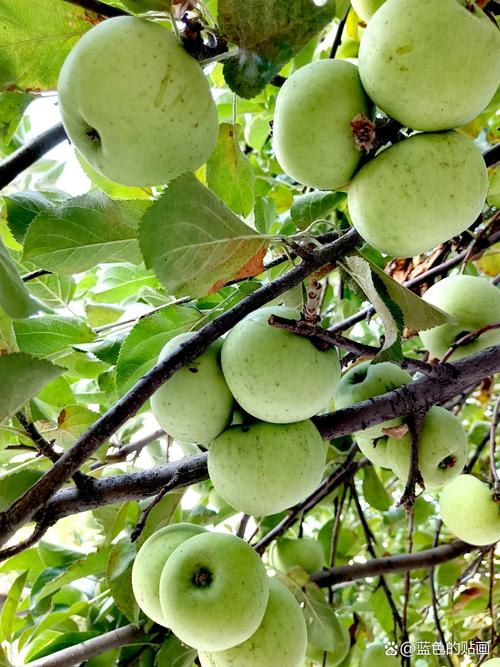unripe: (37, 12, 223, 185), (351, 0, 500, 134), (347, 128, 490, 259), (153, 529, 277, 655), (218, 308, 347, 425), (201, 408, 333, 521), (267, 58, 373, 192), (138, 330, 233, 453), (410, 271, 500, 374), (386, 410, 480, 488), (333, 359, 420, 441), (437, 468, 500, 555)
